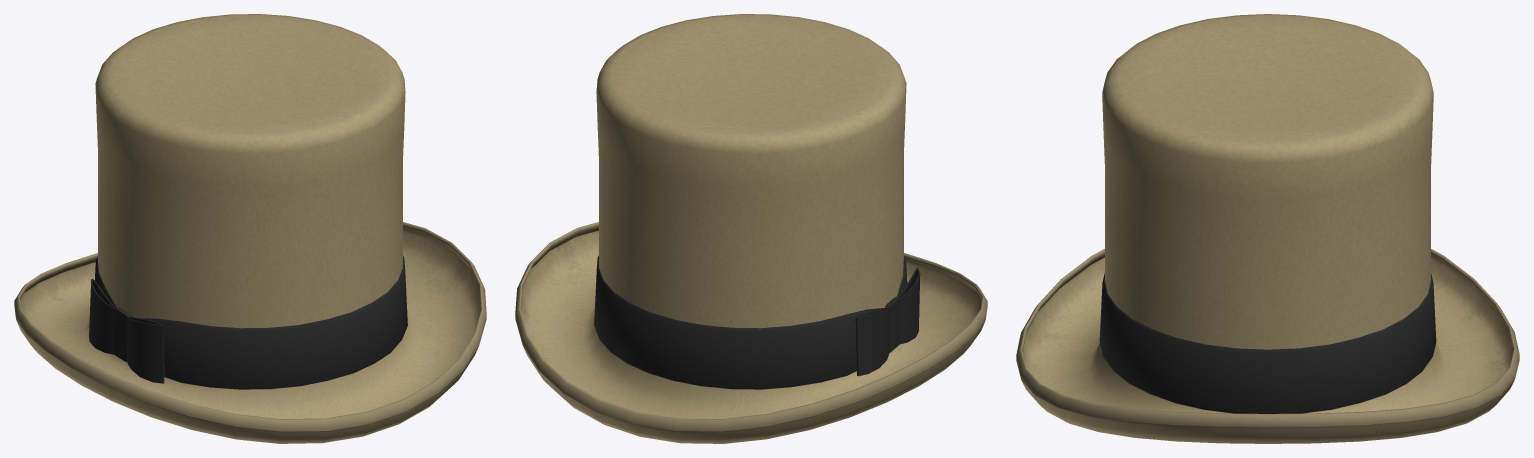
File: 1870s_style_top_hat.glb
The picture shows the model from 3 angles, left to right: view 1: azimuth 30°, elevation 25°; view 2: azimuth 150°, elevation 25°; view 3: azimuth 270°, elevation 25°; orthographic projection. The views are drawn at different scales.
Visible parts, largest first — view 1: Object_2; view 2: Object_2; view 3: Object_2.
Part boxes in pixels (x1,y1,x2,y2): Object_2: [14, 14, 486, 443]; Object_2: [515, 14, 987, 443]; Object_2: [1016, 14, 1519, 443].
Size of the model in its own units: 0.5256 by 0.3456 by 0.5252.
Materials: 1 (1 with a texture image).
